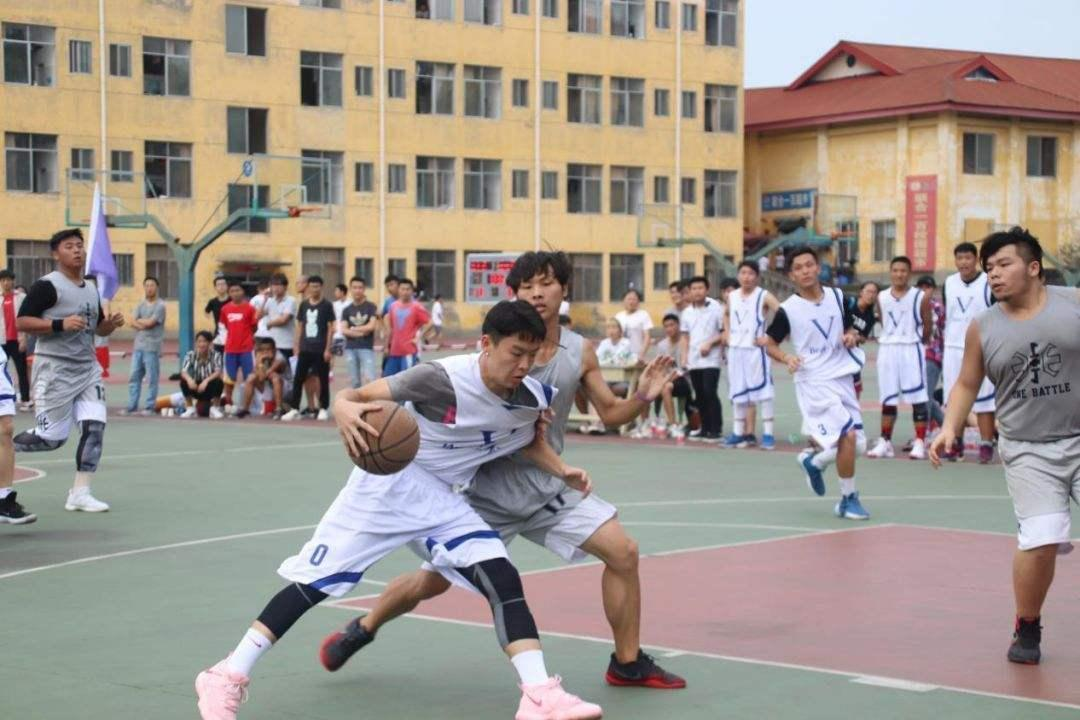ball: (352, 400, 421, 476)
human: (198, 298, 548, 720), (466, 250, 692, 692), (928, 227, 1080, 665), (8, 226, 111, 513)
rim: (296, 206, 324, 231)
